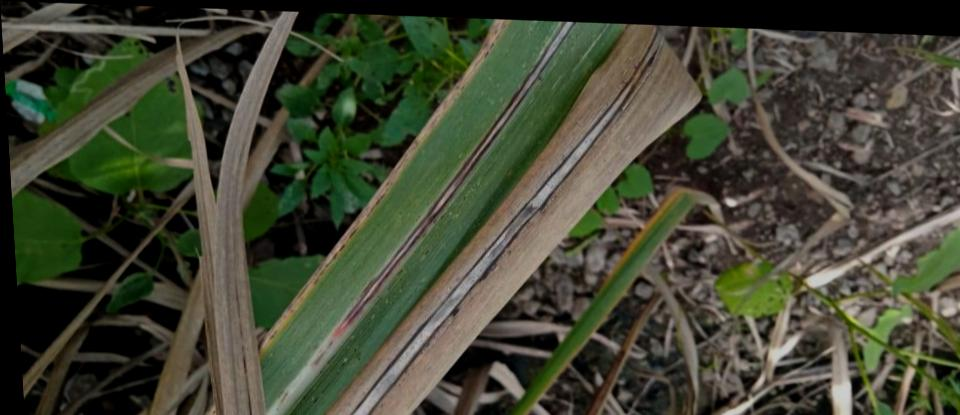RedRot: (311, 21, 579, 367), (276, 391, 289, 411)
